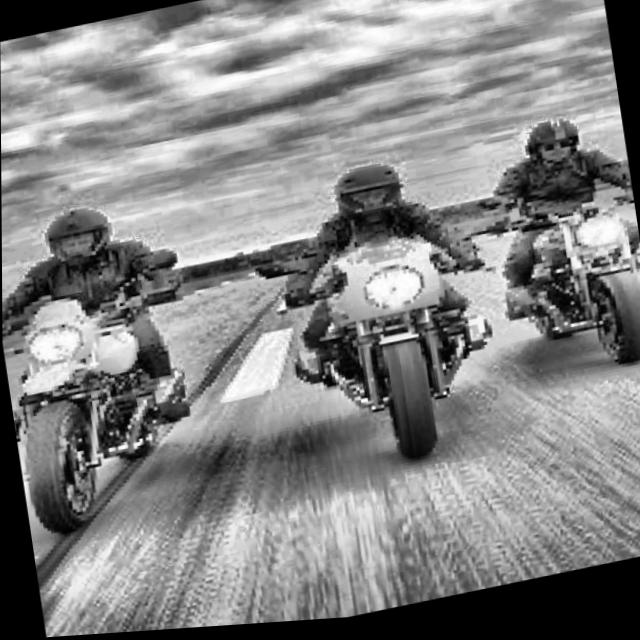motorcycle: (253, 206, 526, 502), (1, 231, 224, 542), (480, 146, 640, 392)
